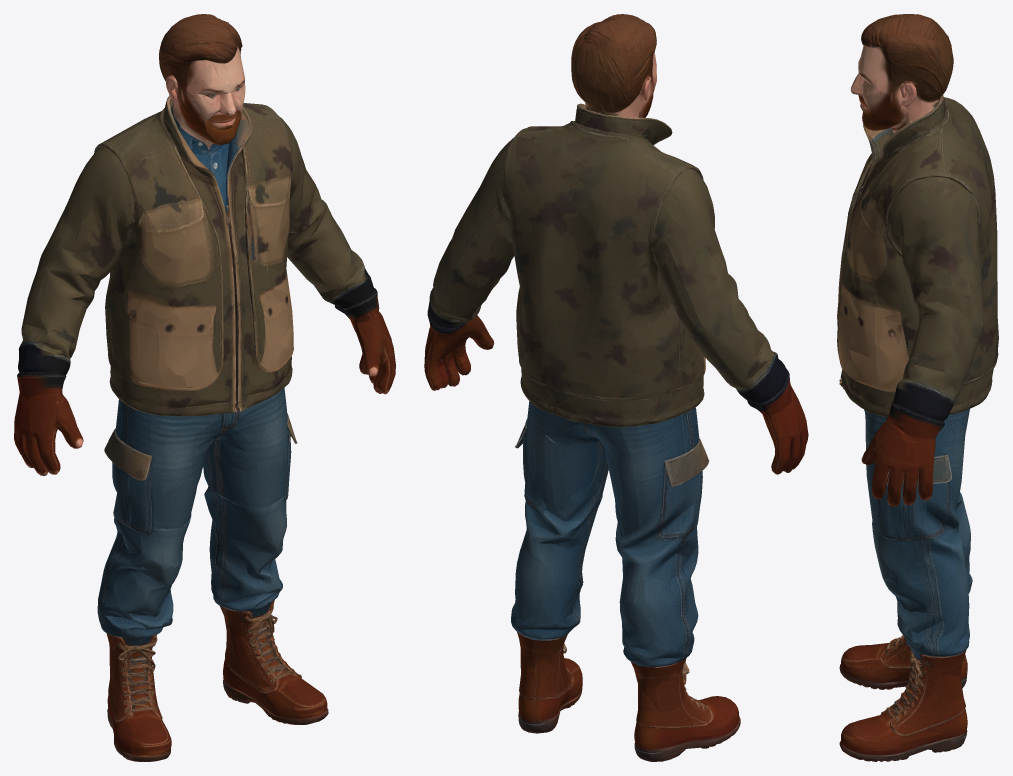
File: hunter-camo-fishing-jeans.glb
3 renders of one model, left to right at view 1: azimuth 30°, elevation 25°; view 2: azimuth 150°, elevation 25°; view 3: azimuth 270°, elevation 25°, orthographic.
Bounding box in the file's own units: 1.04 × 1.9 × 0.3994.
1 material, 1 textured.
